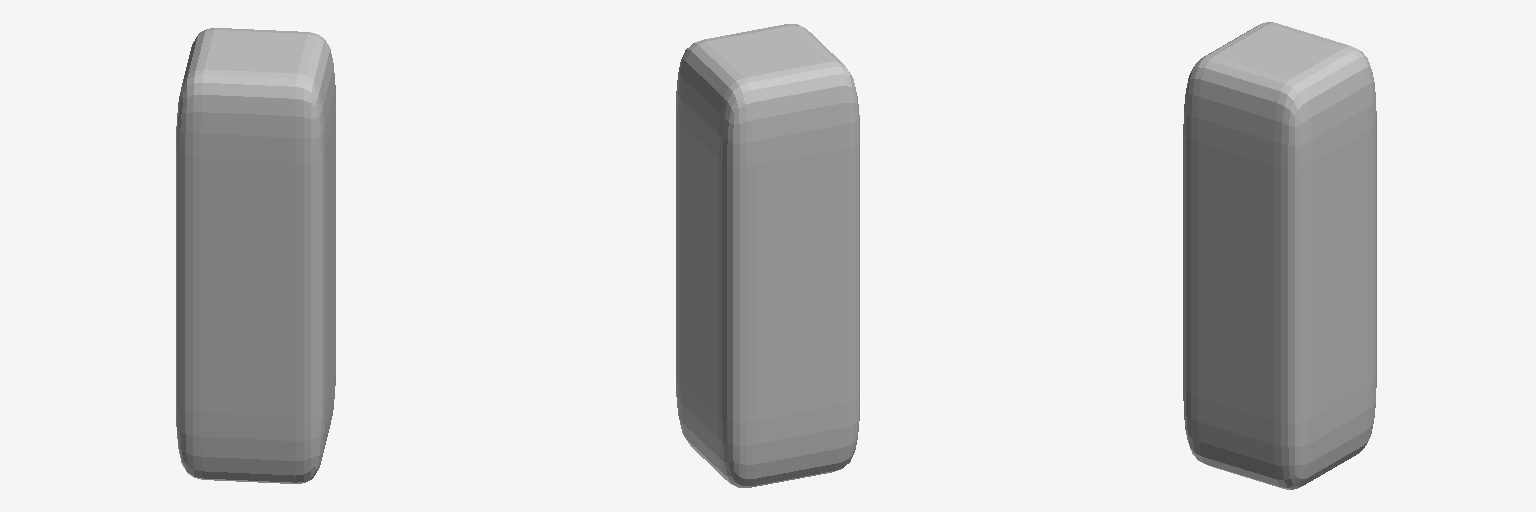
The model's file is butten_1.obj.
3 views of the same model, side by side, from view 1: azimuth 30°, elevation 25°; view 2: azimuth 150°, elevation 25°; view 3: azimuth 270°, elevation 25° (orthographic).
Parts seen in each view (by area): view 1: Butten_1; view 2: Butten_1; view 3: Butten_1.
Part boxes in pixels (x1,y1,x2,y2): Butten_1: (176, 28, 335, 483); Butten_1: (676, 24, 859, 487); Butten_1: (1183, 22, 1376, 489).
Bounding box in the file's own units: 3.64 × 8.48 × 3.64.